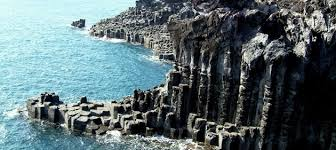mountain: (140, 9, 328, 150)
sea: (2, 5, 166, 147)
stone: (162, 10, 332, 145)
